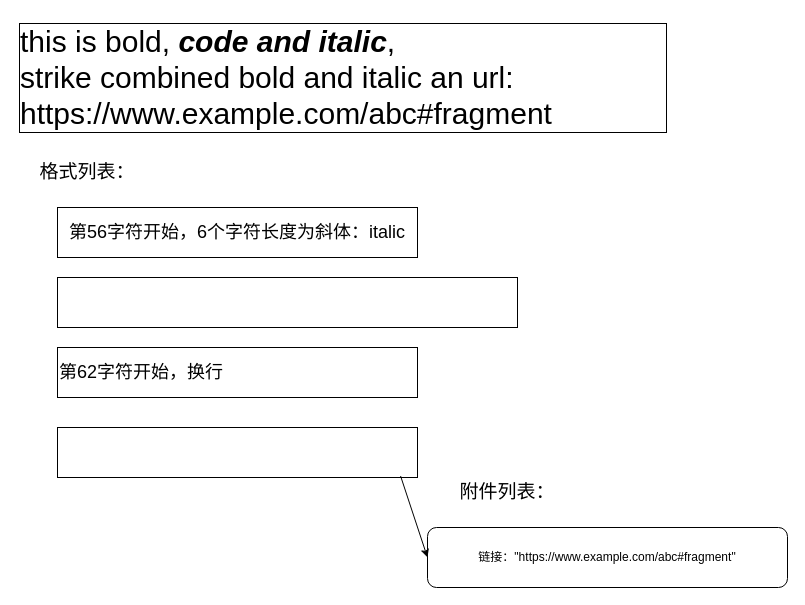
Image size: 805x605. Some labels were removed from this diagram. The shapes that lost their labels are listed below. From the top down, each one's centre as x and y in pixels, then its label:
the point at 287,302: 第47字符开始，15个字符长度为粗体： bold and _italic
the point at 237,452: 第71字符开始，长度36，引用链接索引0
